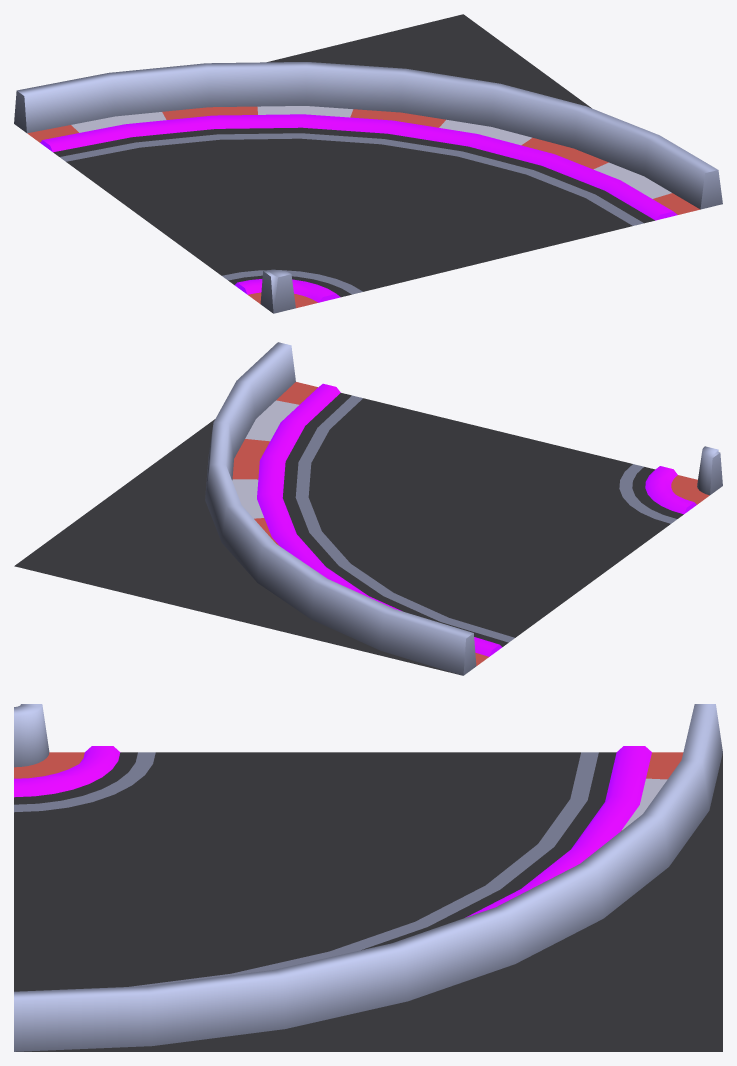
Rendered from track-corner-night.glb.
3 views of the same model, one above another, from view 1: azimuth 30°, elevation 25°; view 2: azimuth 150°, elevation 25°; view 3: azimuth 270°, elevation 25° (orthographic). The views are drawn at different scales.
Visible parts, largest first — view 1: track-corner; view 2: track-corner; view 3: track-corner.
Part boxes in pixels (x1,y1,x2,y2): track-corner: (14,14,722,313); track-corner: (14,342,722,675); track-corner: (14,704,722,1051).
Size of the model in its own units: 10 by 0.75 by 10.
2 materials, 1 textured.
